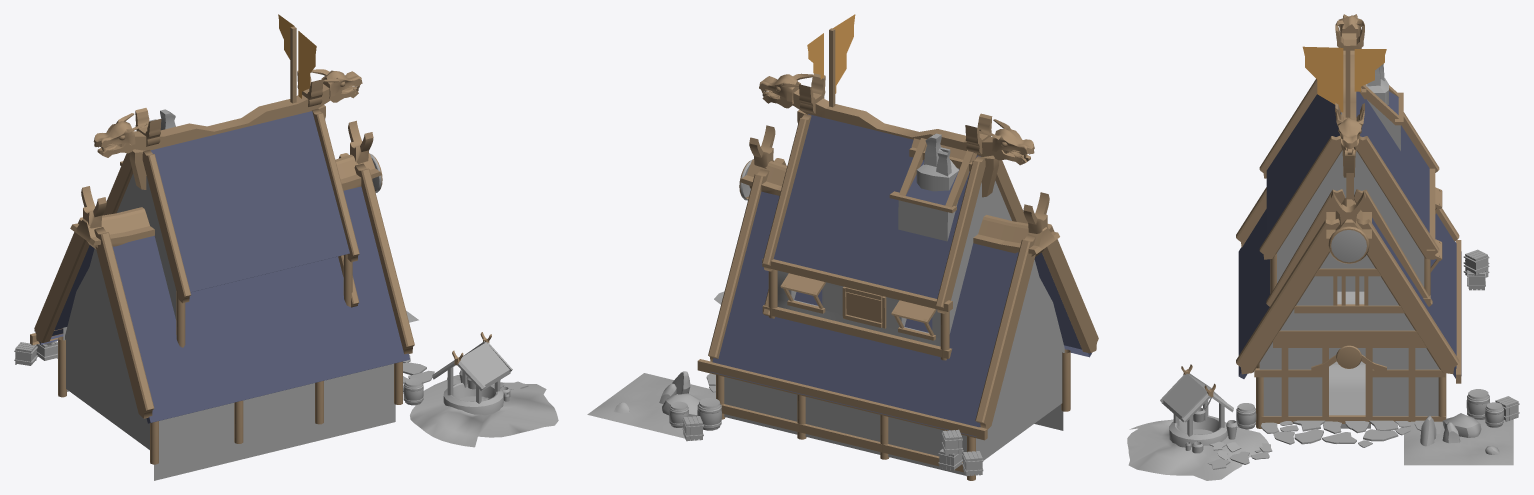
Rendered from newlonghaus.fbx.
3 views of the same model, side by side, from view 1: azimuth 30°, elevation 25°; view 2: azimuth 150°, elevation 25°; view 3: azimuth 270°, elevation 25° (orthographic). The views are drawn at different scales.
Parts seen in each view (by area): view 1: polySurface128; view 2: polySurface128; view 3: polySurface128.
Boxes of the visible parts, bbox=[...] form: polySurface128: bbox=[14, 14, 558, 480]; polySurface128: bbox=[587, 14, 1098, 480]; polySurface128: bbox=[1127, 14, 1519, 480].
Size of the model in its own units: 98.73 by 90.19 by 86.13.
